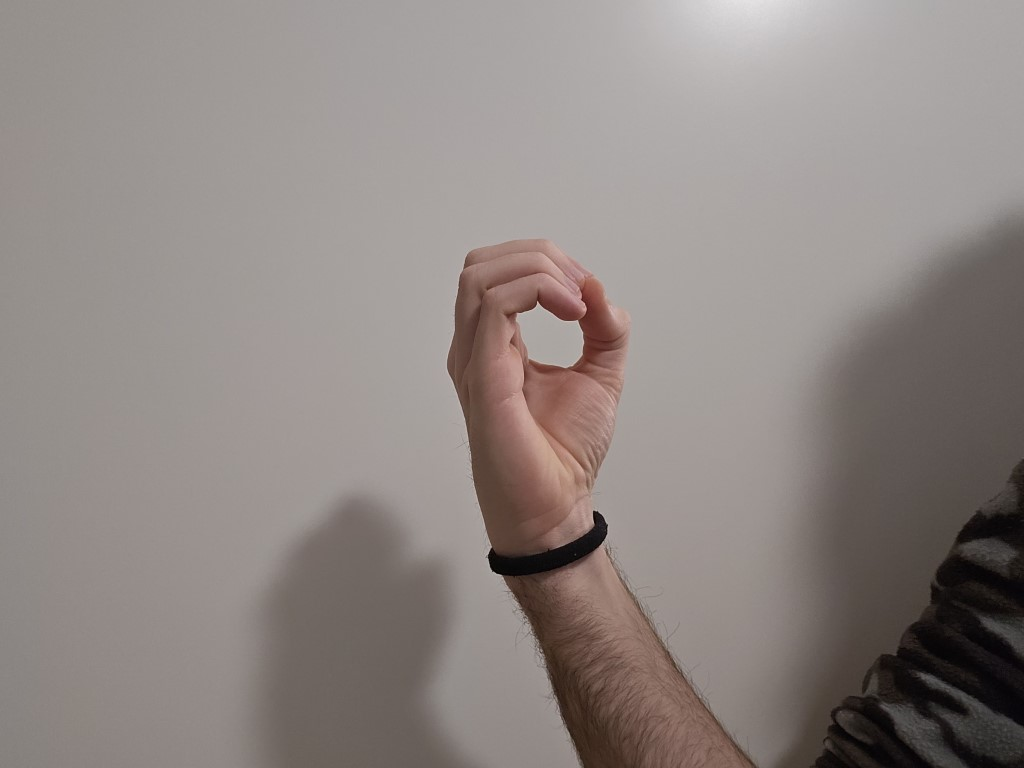o: (419, 219, 655, 524)
